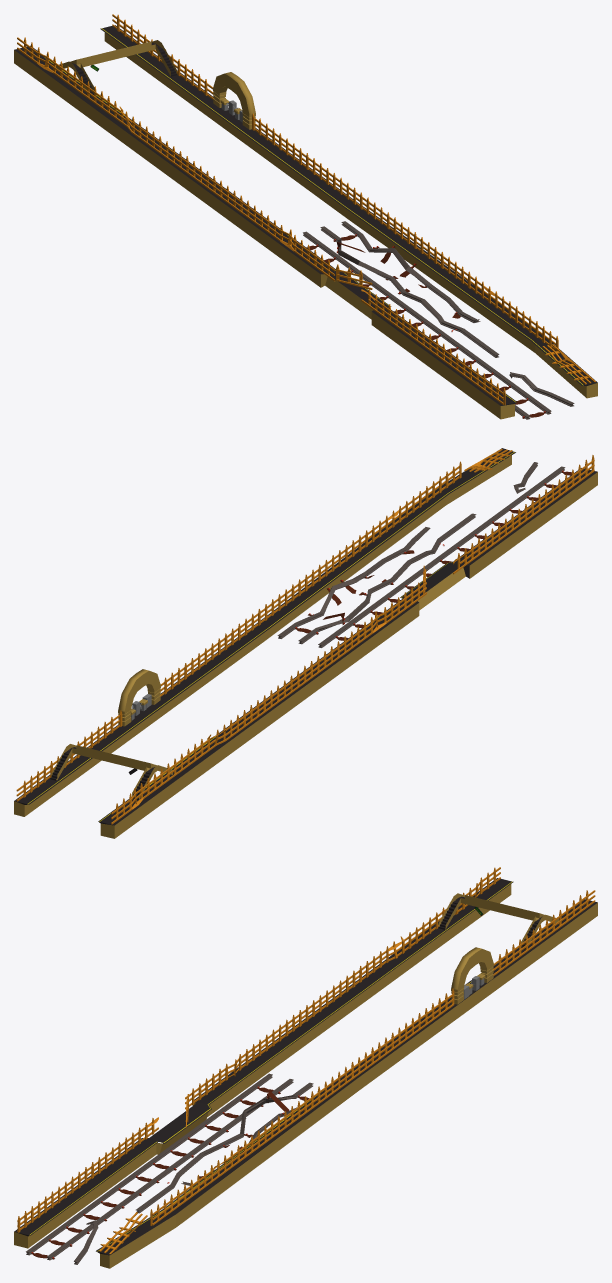
File: train_station.fbx
3 renders of one model, top to bottom at view 1: azimuth 30°, elevation 25°; view 2: azimuth 150°, elevation 25°; view 3: azimuth 330°, elevation 25°, orthographic.
Parts seen in each view (by area): view 1: trainStation_Gase.001, trainStation_Gase.000, rail_broken, rail; view 2: trainStation_Gase.001, trainStation_Gase.000, rail_broken, rail; view 3: trainStation_Gase.001, trainStation_Gase.000, rail, rail_broken.
Part boxes in pixels (box(x1,y1,x2,y2)): trainStation_Gase.001: box(14, 14, 359, 241); trainStation_Gase.000: box(258, 192, 597, 419); rail_broken: box(320, 221, 574, 406); rail: box(303, 231, 551, 419); trainStation_Gase.001: box(14, 610, 357, 838); trainStation_Gase.000: box(257, 448, 597, 660); rail_broken: box(277, 462, 537, 644); rail: box(318, 466, 571, 647); trainStation_Gase.001: box(255, 867, 597, 1091); trainStation_Gase.000: box(14, 1044, 357, 1268); rail: box(26, 1073, 293, 1260); rail_broken: box(74, 1082, 313, 1264).
Size of the model in its own units: 299 by 145 by 2444.
